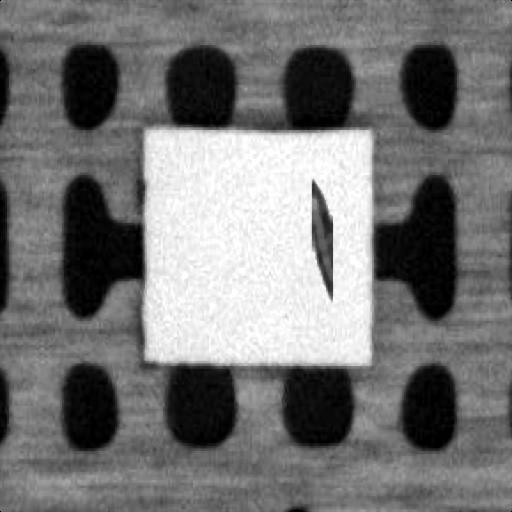DIE_INK: (306, 173, 332, 289)
